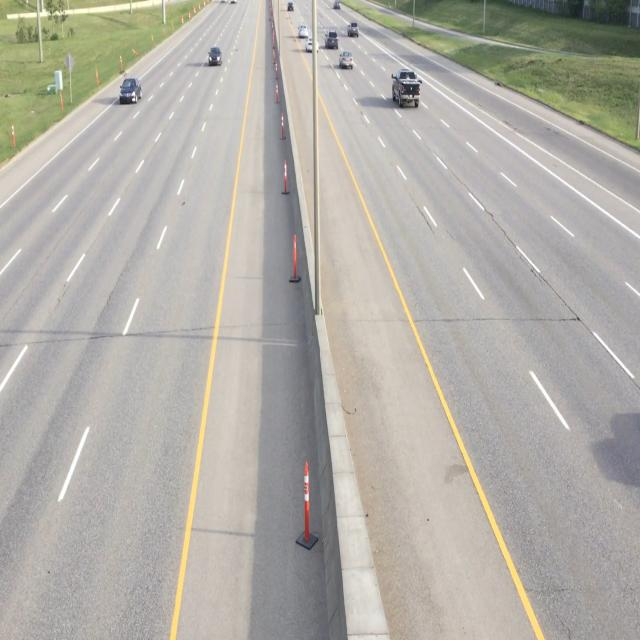Car: (390, 66, 422, 114), (118, 77, 145, 105), (338, 48, 357, 74), (206, 45, 222, 69)
